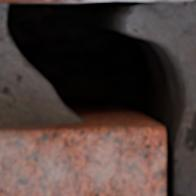brick: (0, 123, 164, 195), (40, 0, 98, 1), (154, 0, 189, 1), (0, 0, 20, 1)
crack: (2, 0, 193, 195)
